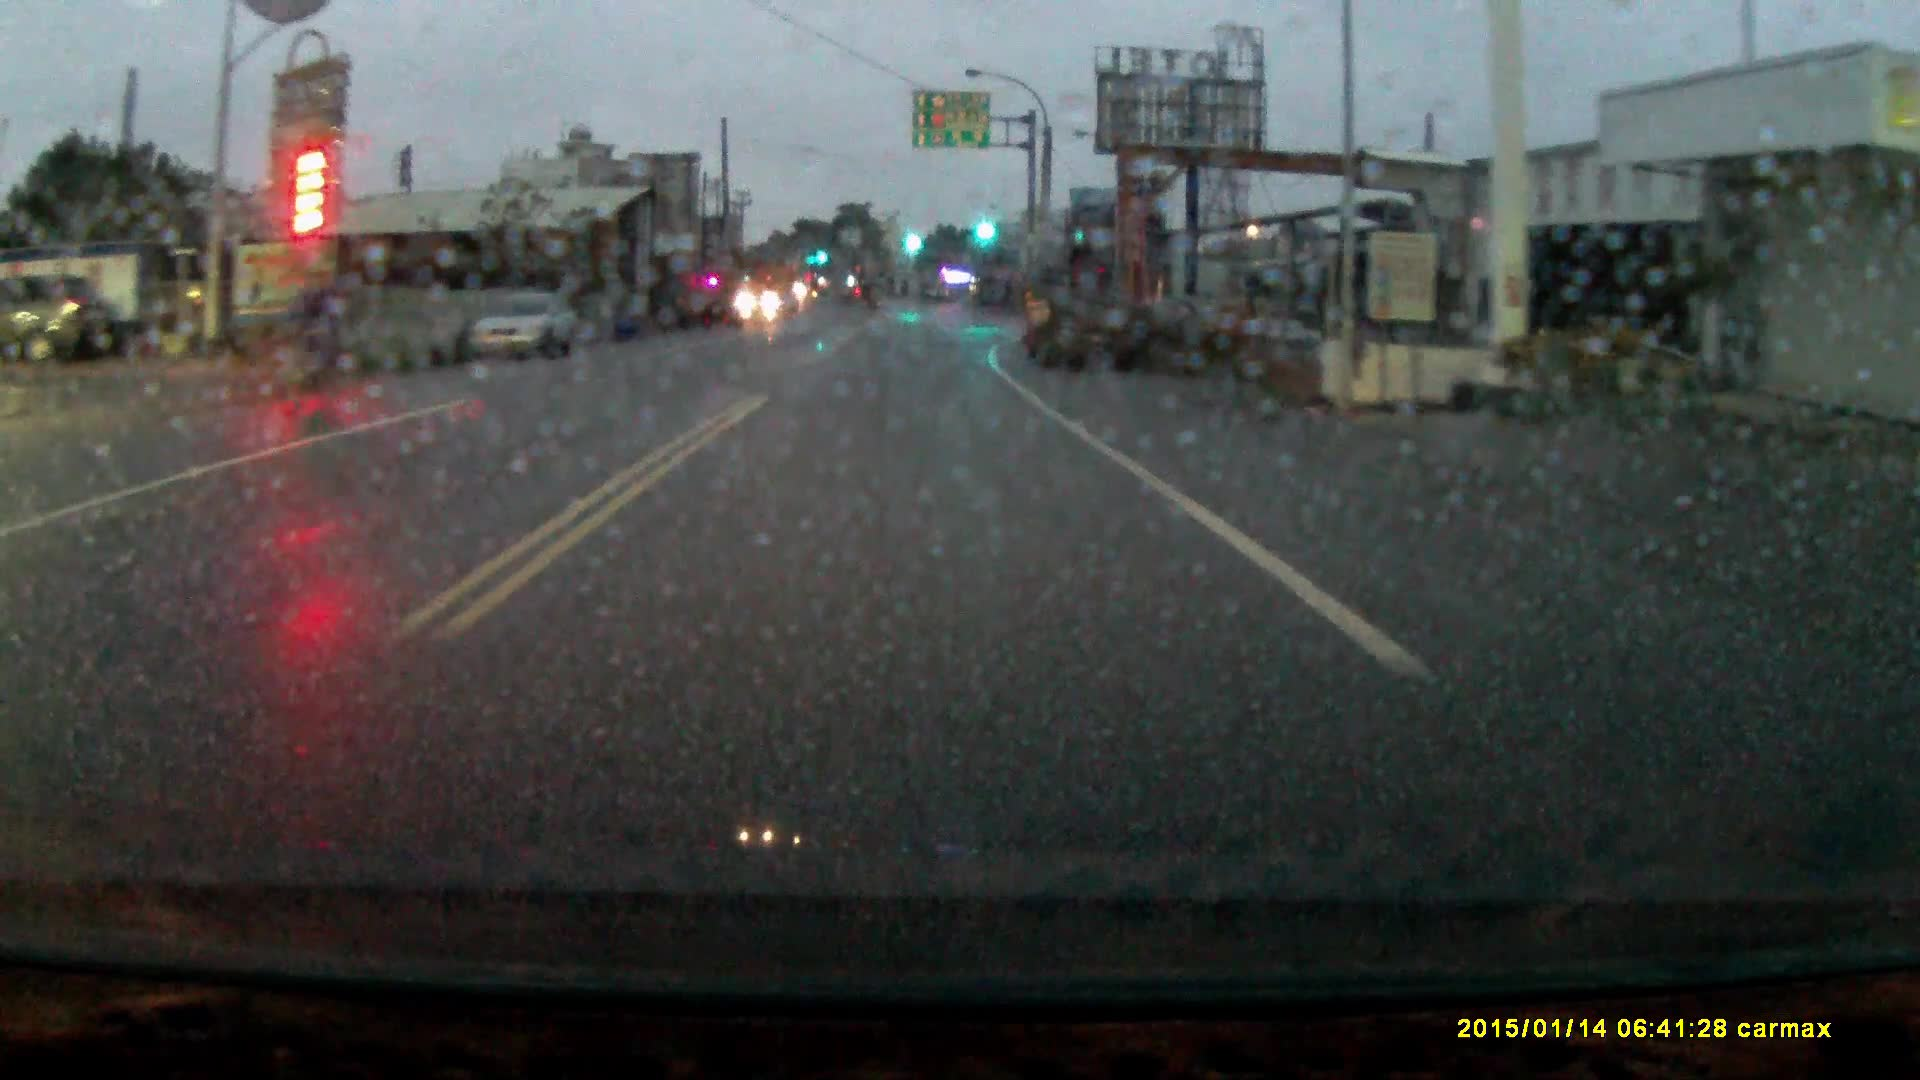rider: (254, 251, 358, 435)
vehicle: (1, 274, 138, 367), (1024, 263, 1127, 375), (467, 293, 587, 361)
